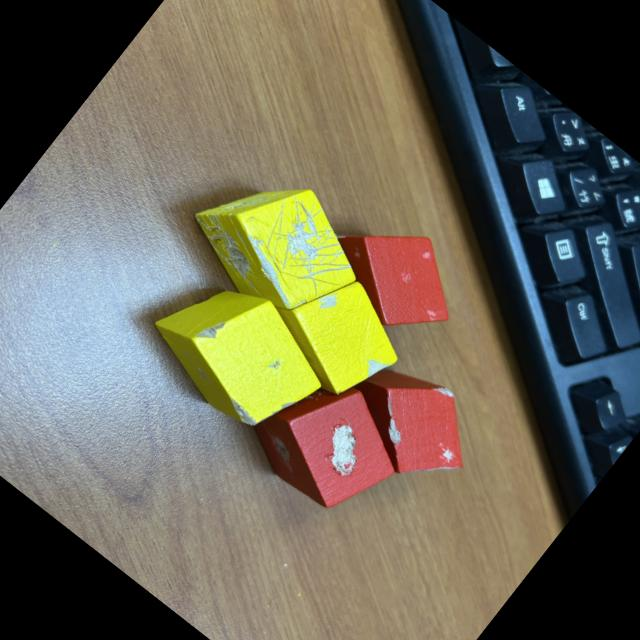broken: (173, 142, 384, 346), (133, 251, 344, 453), (237, 350, 422, 532), (306, 190, 480, 357), (251, 248, 423, 416), (325, 339, 497, 504)
